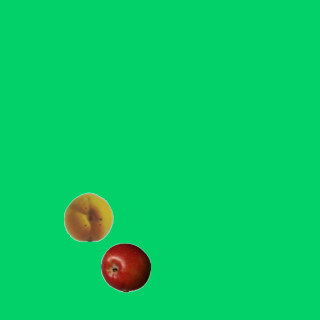Apple Braeburn: (100, 242, 150, 292)
Peach 2: (63, 191, 113, 241)
